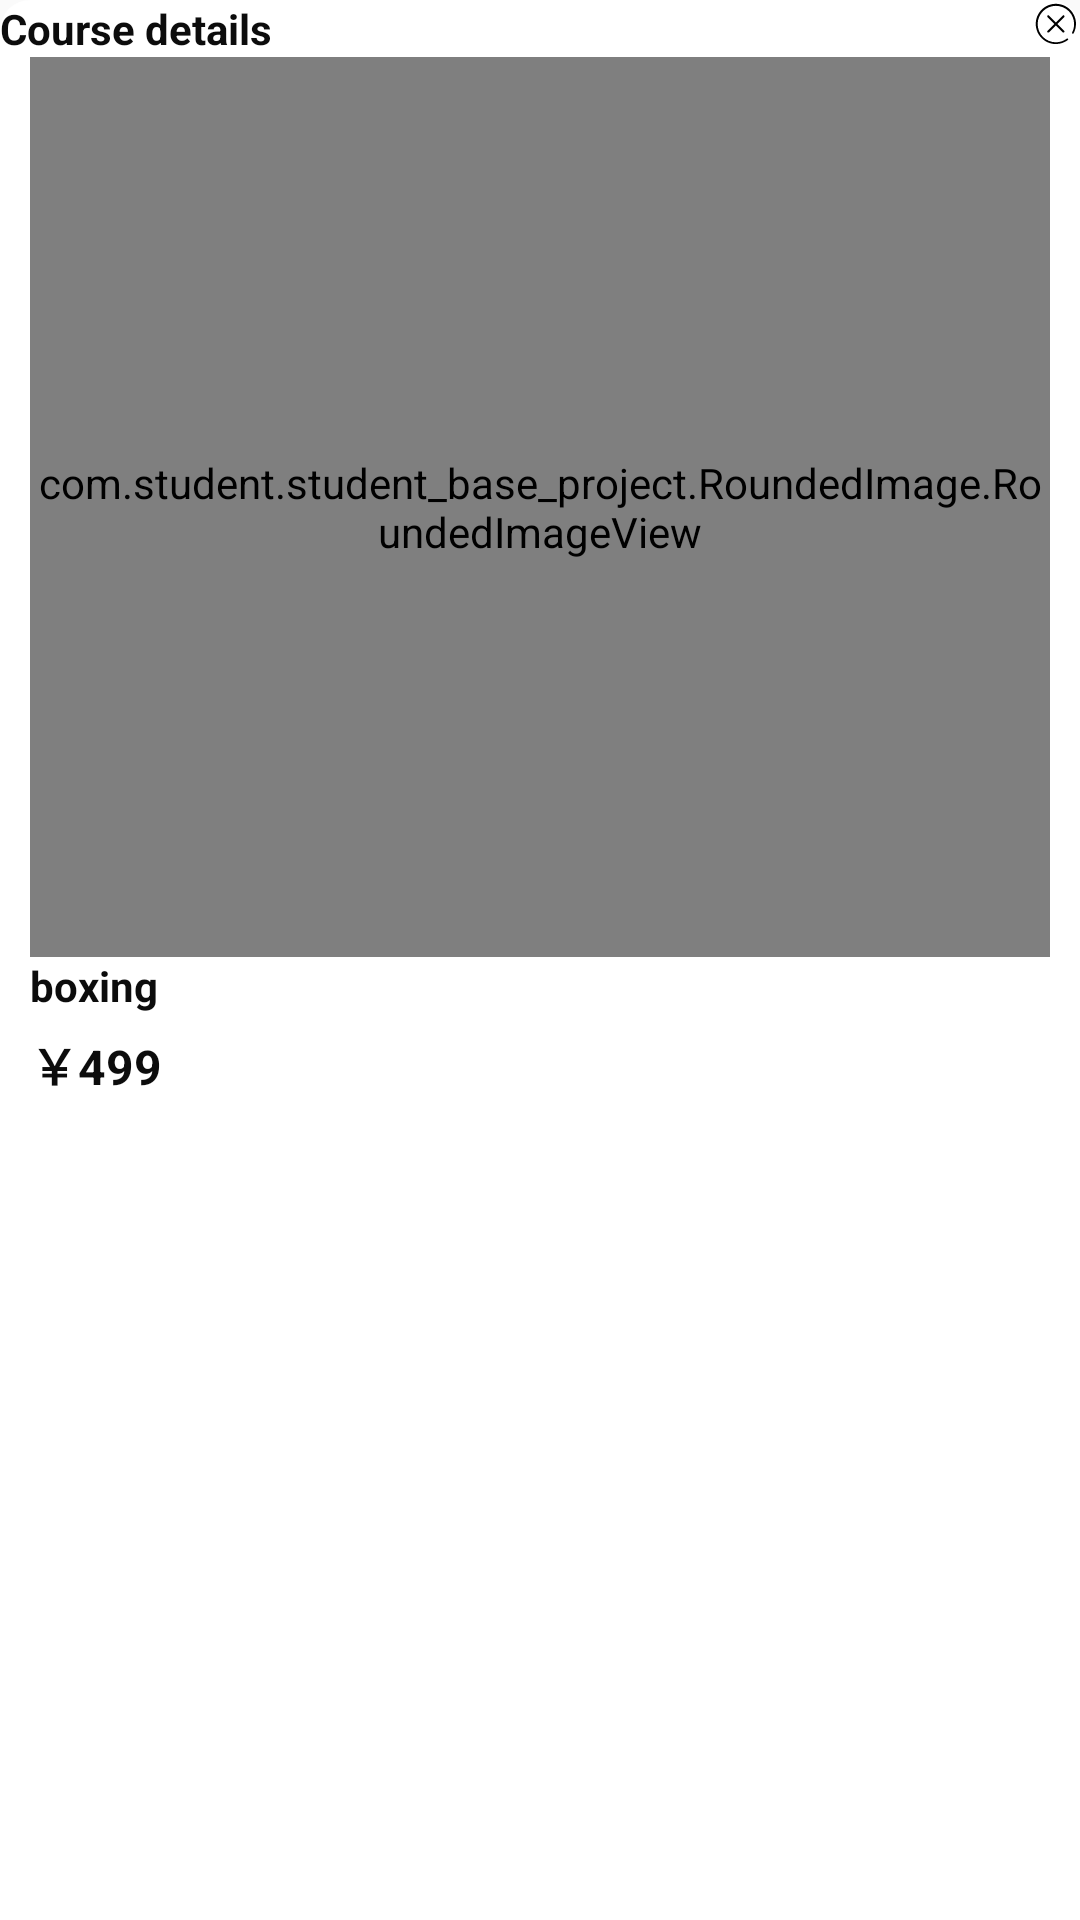

Icons on this 1080×1920 Android screen, each with the point to tap as point (x, y):
deltel: point (1055, 23)
